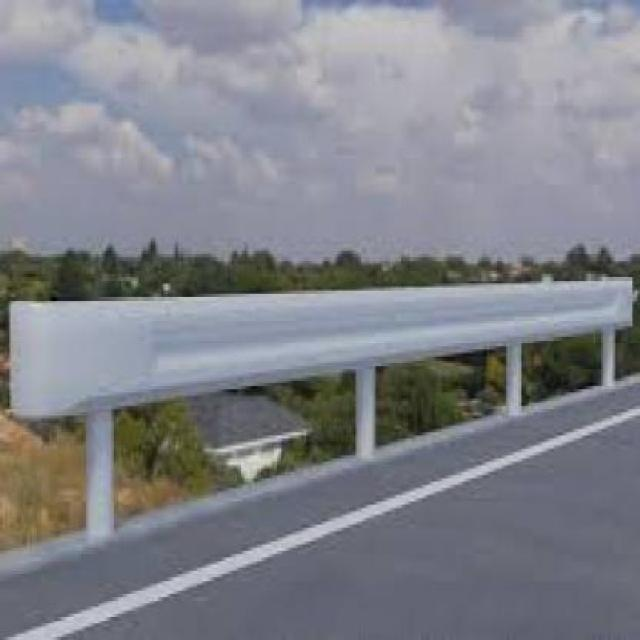Guard rail: (7, 264, 636, 558)
